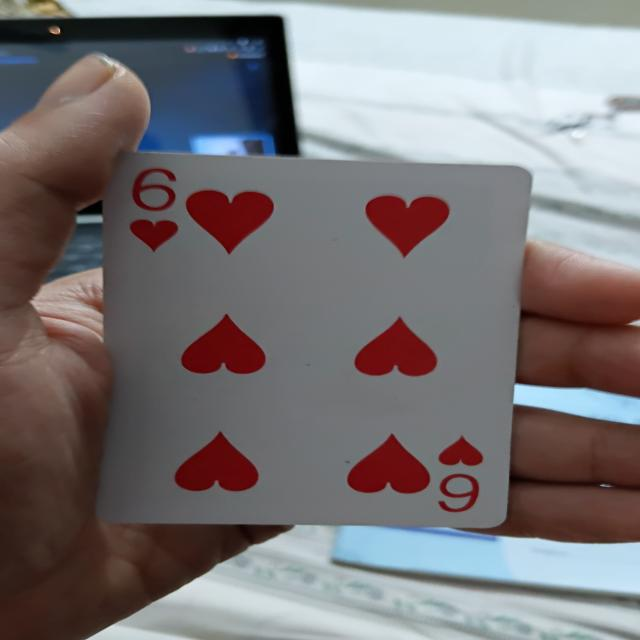6H: (92, 136, 508, 534)
